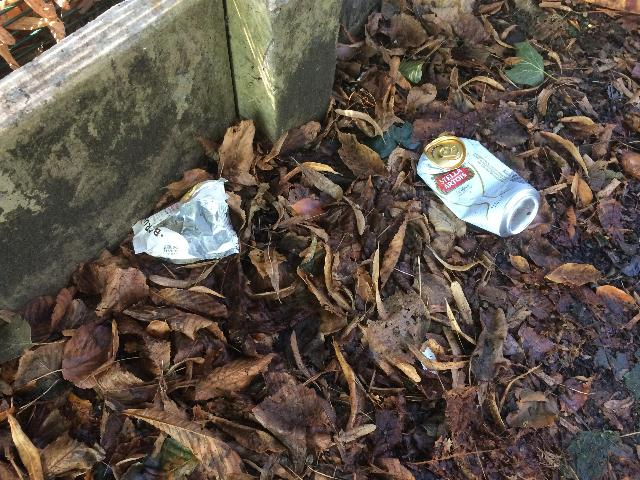metal: (417, 135, 540, 236)
